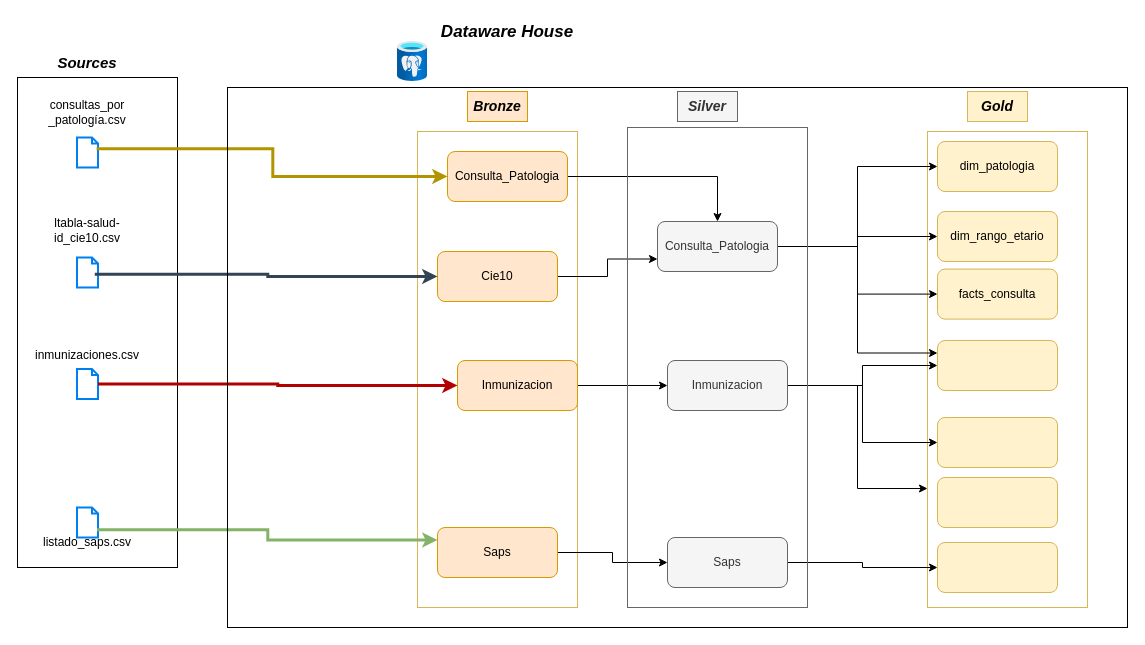
The diagram is 1145 pixels wide and 645 high, and some of its shapes have lost their labels. The box of each missing label's shape, as (x1, y1, x2, y2) in pixels:
dim_calendario: (936, 340, 1058, 390)
dim_saps: (936, 542, 1058, 592)
dim_tipo_vacuna: (936, 416, 1058, 468)
facts_inmunizacion: (936, 476, 1058, 528)
